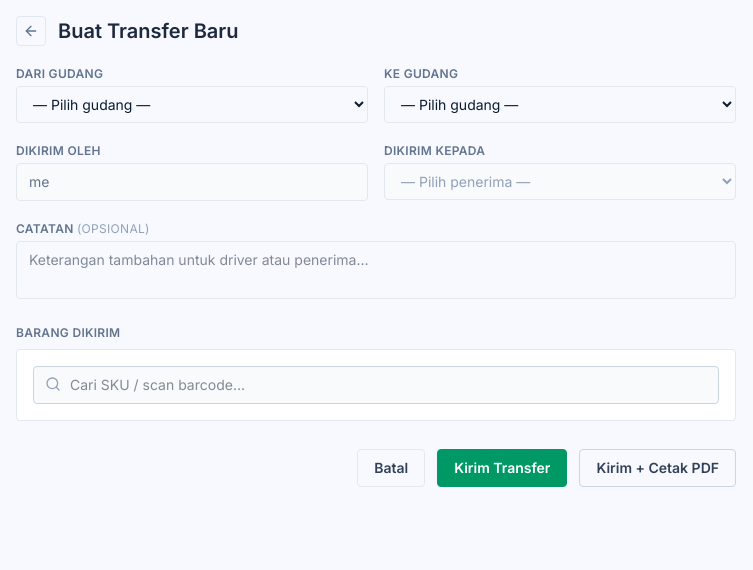
Test: WarehouseTransferCreateScreen › shows validation error when submitting with no lines
The width and height of the screenshot is (753, 570).
Step 1. Select "Gudang Atas" in the dropdown labelled "Dari Gudang" → (192, 104), box [16,86,368,123]
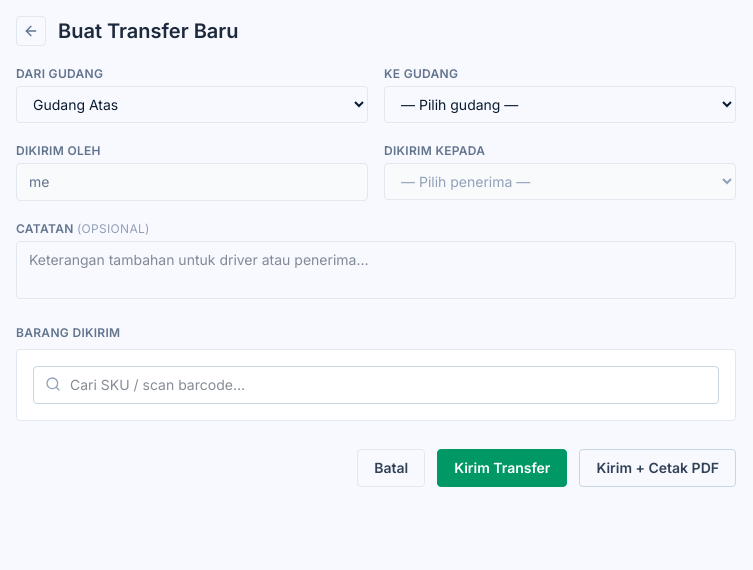
Step 2. Select "Gudang Bawah" in the dropdown labelled "Ke Gudang" → (560, 104), box [384,86,736,123]
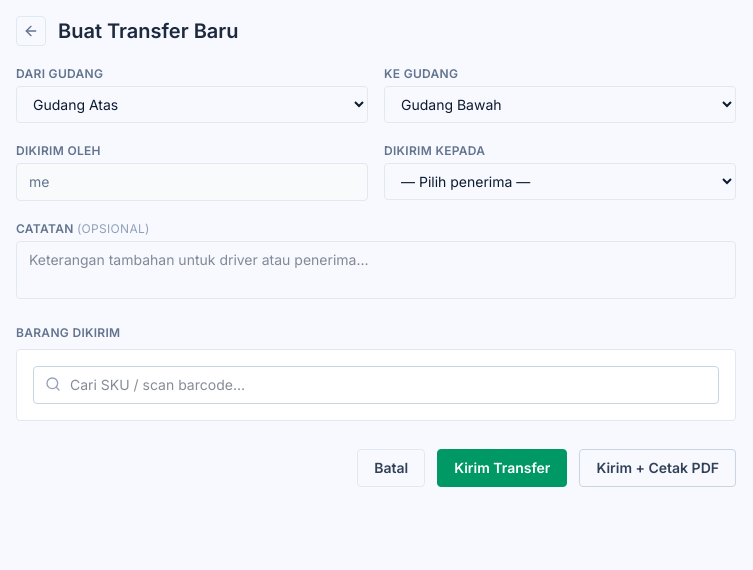
Check: the dropdown labelled "Dikirim Kepada" is enabled
Step 3. Select "Sari" in the dropdown labelled "Dikirim Kepada" → (560, 182), box [384,163,736,200]
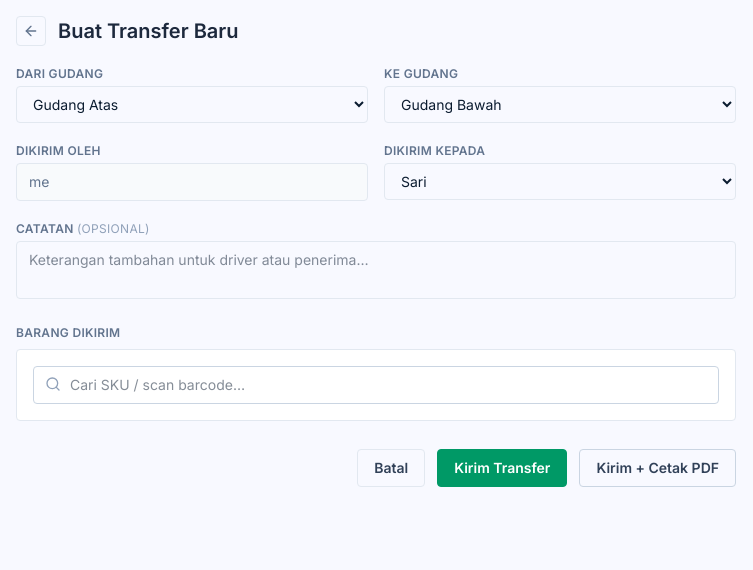
// Submit without adding items
Step 4. Click the button "Kirim Transfer" → (502, 468), box [437,449,567,487]
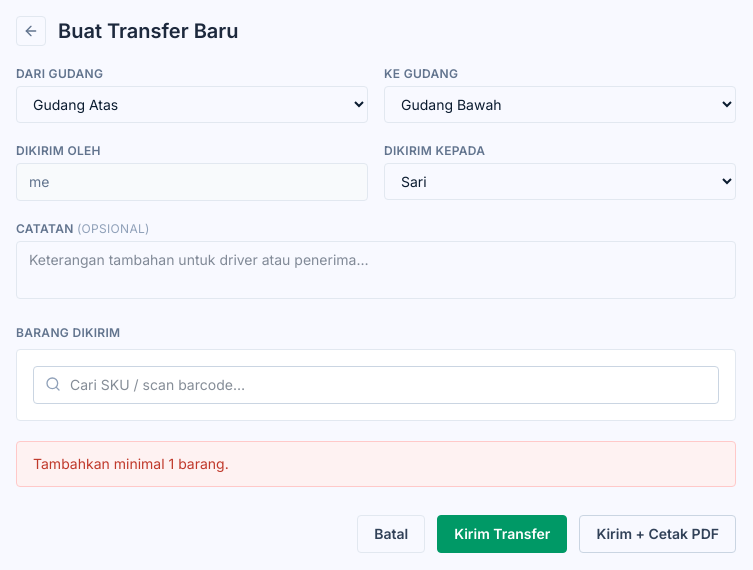
Check: the text "Tambahkan minimal 1 barang." is shown, box [16,441,736,487]
